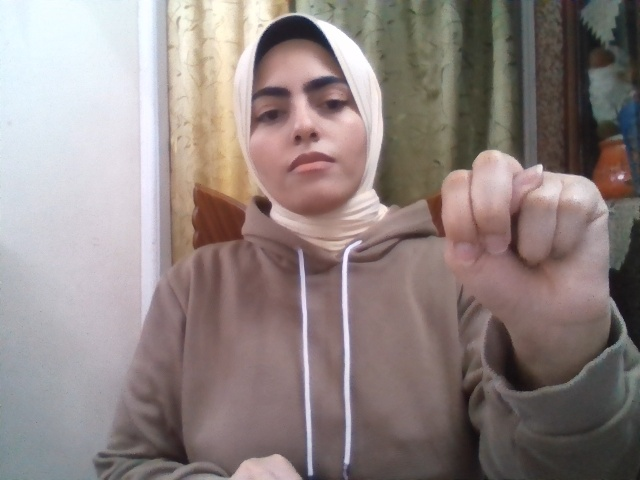N: (440, 150, 609, 325)
